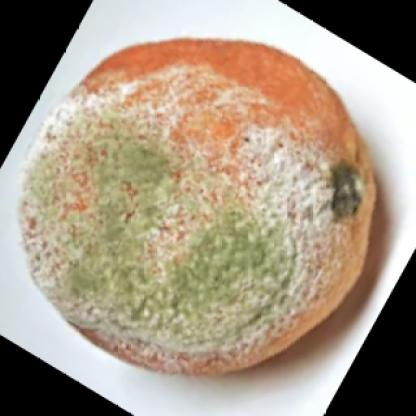rotten: (24, 38, 377, 382)
